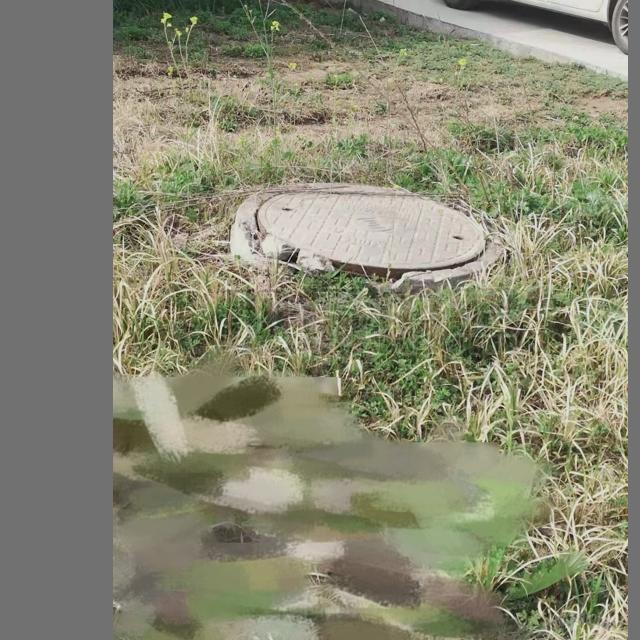circle: (233, 175, 522, 293)
